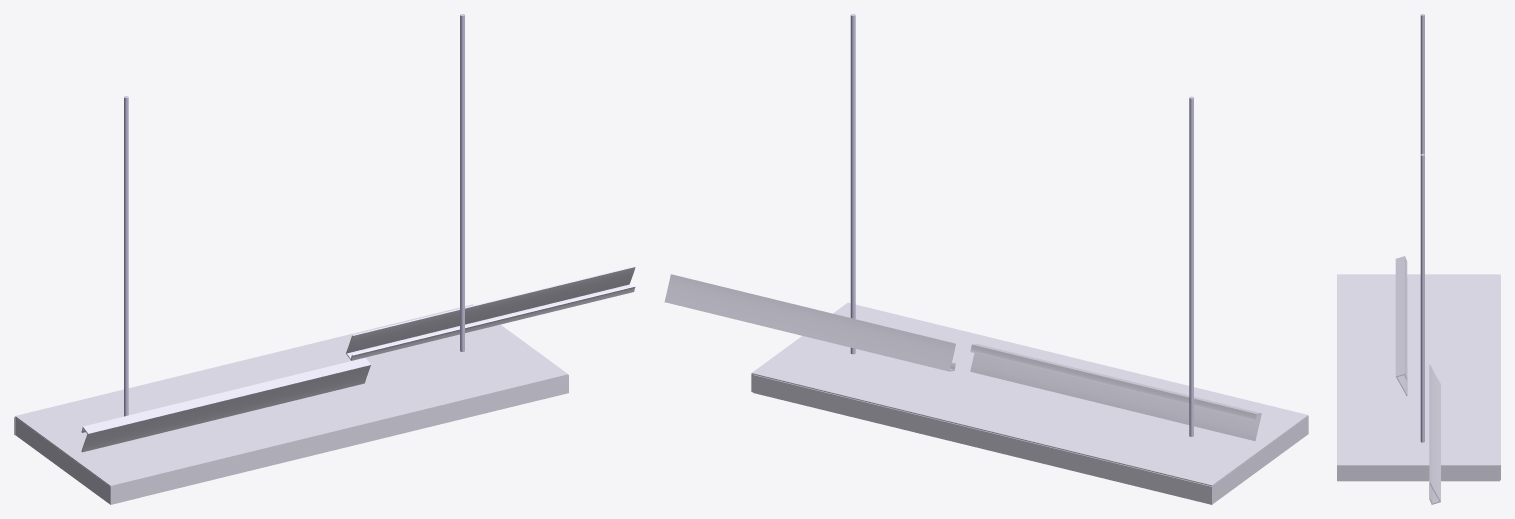
Rendered from Florescent Light.FBX.
The picture shows the model from 3 angles, left to right: view 1: azimuth 30°, elevation 25°; view 2: azimuth 150°, elevation 25°; view 3: azimuth 270°, elevation 25°; orthographic projection. The views are drawn at different scales.
Parts seen in each view (by area): view 1: Box01, Line02, Line03, Box02, Box06, Cylinder02, Cylinder01; view 2: Box01, Box03, Line03, Line02, Cylinder02, Box06, Cylinder01; view 3: Box01, Box04, Line02, Line03, Cylinder02, Cylinder01, Box03.
Boxes of the visible parts, x1=… form: Box01: x1=15, y1=304, x2=568, y2=488; Line02: x1=81, y1=357, x2=370, y2=452; Line03: x1=346, y1=266, x2=635, y2=360; Box02: x1=140, y1=384, x2=538, y2=497; Box06: x1=15, y1=417, x2=140, y2=504; Cylinder02: x1=460, y1=14, x2=464, y2=351; Cylinder01: x1=124, y1=96, x2=128, y2=416; Box01: x1=751, y1=302, x2=1308, y2=486; Box03: x1=753, y1=375, x2=1212, y2=504; Line03: x1=664, y1=274, x2=955, y2=371; Line02: x1=970, y1=344, x2=1261, y2=441; Cylinder02: x1=850, y1=14, x2=855, y2=354; Box06: x1=1212, y1=416, x2=1308, y2=503; Cylinder01: x1=1189, y1=96, x2=1193, y2=436; Box01: x1=1337, y1=274, x2=1500, y2=466; Box04: x1=1337, y1=465, x2=1499, y2=481; Line02: x1=1395, y1=256, x2=1407, y2=396; Line03: x1=1429, y1=365, x2=1440, y2=504; Cylinder02: x1=1420, y1=154, x2=1424, y2=442; Cylinder01: x1=1420, y1=14, x2=1424, y2=154; Box03: x1=1500, y1=275, x2=1500, y2=480.
Size of the model in its own units: 48.38 by 28.93 by 13.89.
